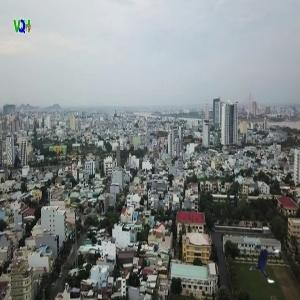drone: (240, 235, 293, 288)
